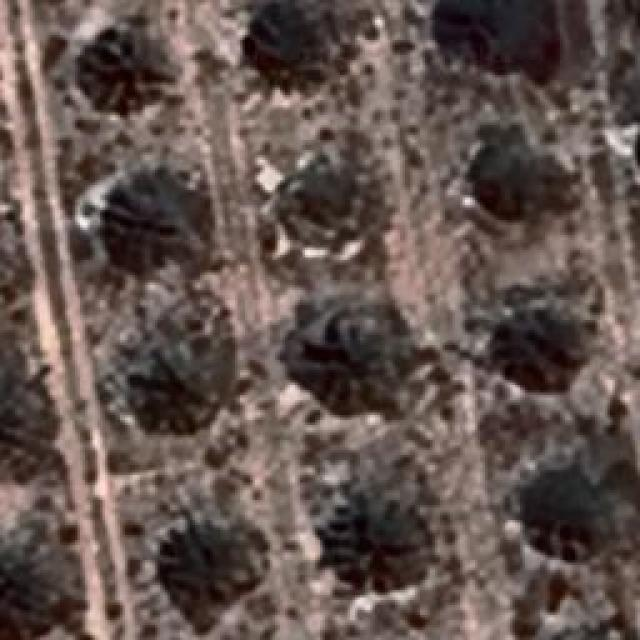PalmTree: (28, 100, 58, 588), (336, 494, 436, 608), (276, 148, 384, 252), (248, 2, 360, 90), (475, 305, 570, 400), (461, 130, 551, 228), (158, 511, 246, 609), (80, 22, 175, 110), (314, 336, 414, 419), (520, 461, 602, 561), (433, 0, 531, 82), (132, 331, 218, 424), (122, 174, 192, 266), (14, 97, 28, 416), (0, 368, 18, 462), (546, 624, 638, 640)
